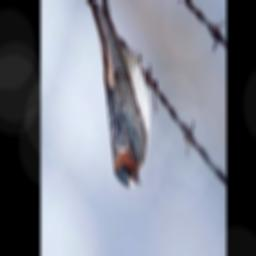Swallow: (58, 0, 171, 202)
